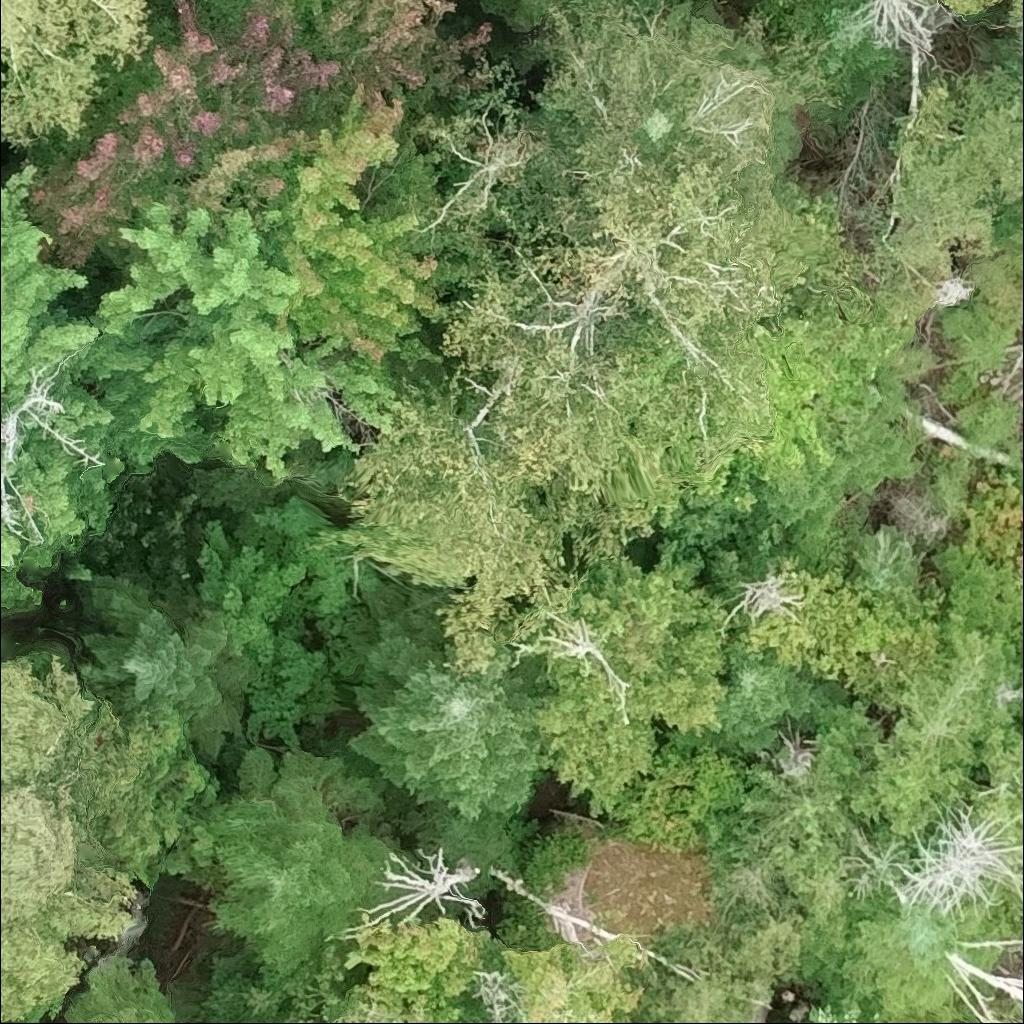crown: (313, 0, 840, 673), (24, 0, 495, 269), (80, 196, 397, 480), (171, 78, 464, 368), (311, 582, 557, 825), (0, 656, 160, 1023), (191, 491, 382, 753), (204, 743, 392, 980), (58, 561, 255, 760), (0, 163, 116, 459), (0, 0, 155, 149), (674, 630, 851, 760), (0, 419, 112, 610), (66, 950, 177, 1023), (475, 0, 563, 33), (391, 0, 426, 11), (569, 0, 585, 2)
